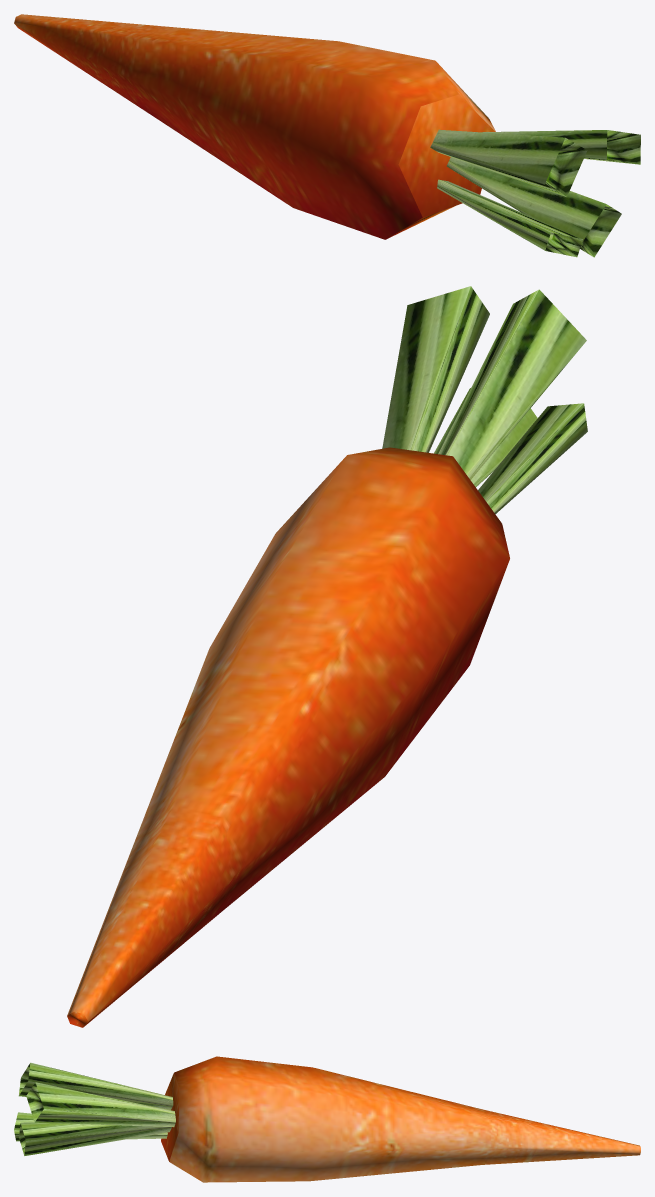
File: Carrot.fbx
3 renders of one model, top to bottom at view 1: azimuth 30°, elevation 25°; view 2: azimuth 150°, elevation 25°; view 3: azimuth 270°, elevation 25°, orthographic. The views are drawn at different scales.
Visible parts, largest first — view 1: Carrot; view 2: Carrot; view 3: Carrot.
Boxes of the visible parts, x1,y1,x2,y2 form: Carrot: (14,14,640,257); Carrot: (67,286,587,1027); Carrot: (14,1056,640,1182).
Size of the model in its own units: 0.226 by 0.2064 by 0.8841.
